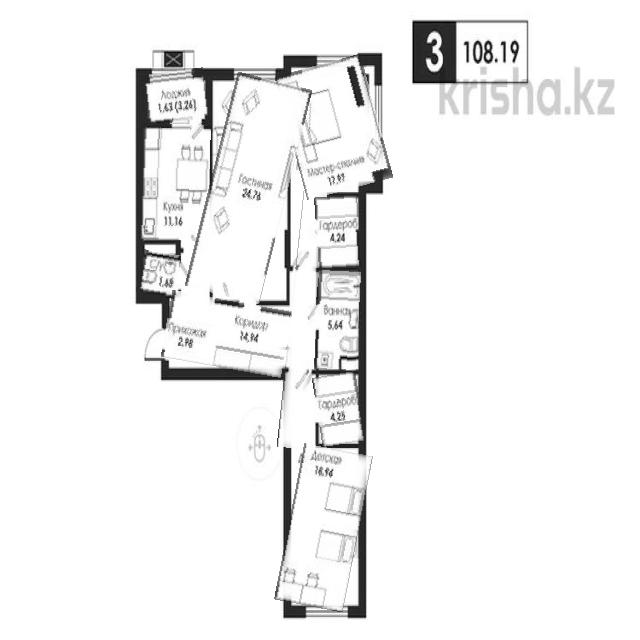balcony: (142, 69, 207, 124)
bathroom: (315, 270, 360, 370), (137, 250, 180, 298)
hallway: (164, 295, 290, 373), (284, 191, 320, 449)
kitchen: (138, 124, 210, 240)
living_room: (197, 74, 300, 301), (282, 59, 386, 196), (282, 445, 366, 610)
other: (314, 373, 364, 445), (315, 196, 360, 268)
